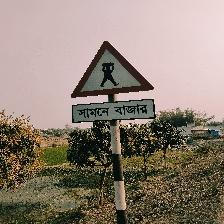Market-in-front: (71, 41, 156, 123)
